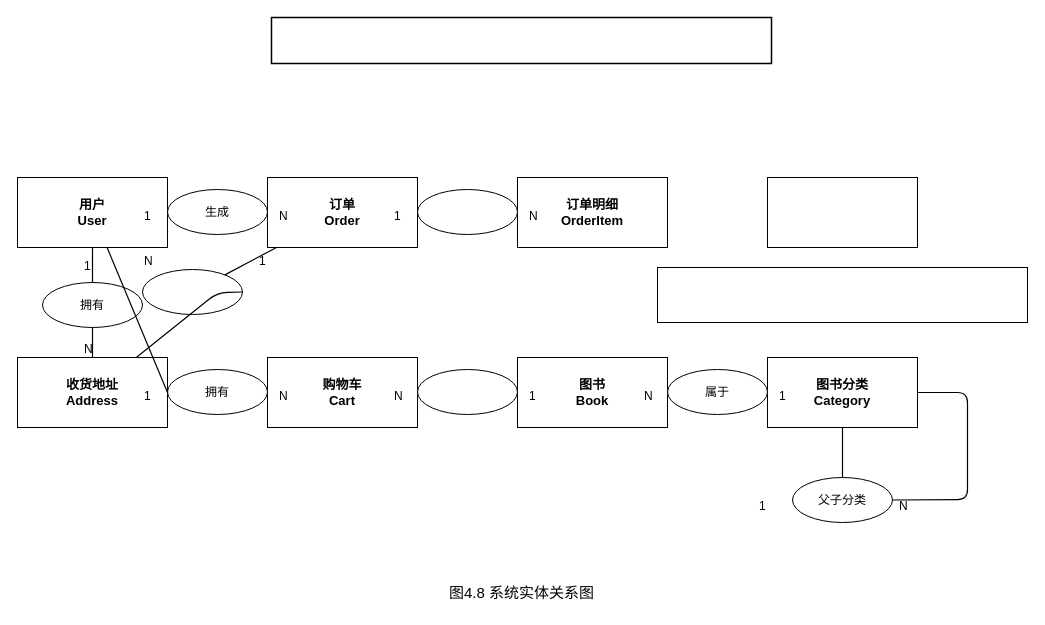
The diagram is 1045 pixels wide and 625 high, and some of its shapes have lost their labels. The centre of each missing label's shape, as x and y in pixels:
"使用" belongs at [192,291].
"包含" belongs at [467,211].
"对应" belongs at [467,391].
"系统实体关系图" belongs at [521,40].
"说明：轮播图实体作为独立展示资源，不与其他业务实体建立直接外键关系" belongs at [842,294].
"轮播图 Banner" belongs at [842,212].
